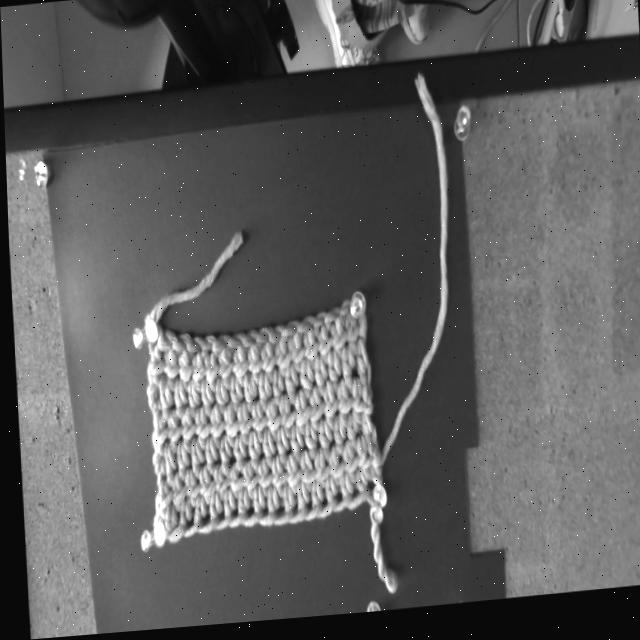ch: (160, 331, 183, 352), (255, 330, 276, 346), (176, 334, 195, 351), (189, 338, 209, 351), (287, 323, 306, 336), (243, 334, 264, 345), (213, 337, 234, 348), (272, 328, 291, 340), (299, 320, 319, 331), (230, 337, 250, 347), (314, 315, 333, 325), (201, 337, 222, 346), (327, 309, 344, 319)
hdc: (162, 500, 187, 543), (192, 494, 217, 535), (252, 489, 274, 531), (178, 498, 201, 538), (342, 474, 363, 516), (237, 490, 259, 530), (268, 488, 290, 528), (327, 478, 349, 518), (223, 491, 244, 531), (297, 485, 318, 525), (211, 490, 231, 531), (283, 486, 303, 527), (275, 398, 292, 445), (289, 394, 306, 438), (265, 458, 282, 502), (352, 440, 368, 486), (336, 348, 351, 396), (246, 405, 263, 447), (219, 403, 233, 454), (194, 465, 211, 507), (228, 344, 243, 391), (319, 385, 334, 432), (323, 452, 339, 495), (214, 350, 229, 394), (261, 402, 276, 446), (177, 409, 191, 456), (184, 442, 200, 483), (315, 482, 332, 520), (233, 404, 248, 447), (191, 409, 206, 452), (150, 415, 165, 458), (305, 391, 319, 437), (200, 353, 215, 395), (163, 411, 177, 456), (179, 470, 195, 509), (187, 352, 201, 396), (158, 444, 172, 488), (160, 351, 175, 392), (294, 364, 309, 405), (284, 427, 299, 468), (322, 354, 336, 397), (338, 444, 352, 487), (283, 457, 297, 500), (270, 340, 285, 380), (171, 442, 186, 482), (238, 462, 253, 502), (331, 385, 348, 420), (224, 377, 240, 414), (256, 345, 270, 387), (280, 366, 294, 408), (313, 424, 327, 466), (296, 455, 310, 497), (326, 322, 341, 361), (352, 343, 364, 391), (174, 351, 188, 392), (154, 376, 169, 414), (238, 375, 252, 415), (252, 459, 266, 499), (166, 474, 180, 514), (157, 506, 173, 541), (205, 407, 218, 450), (225, 466, 240, 503), (341, 319, 355, 358), (312, 328, 329, 360), (170, 379, 183, 420), (271, 431, 284, 472), (210, 379, 224, 417), (310, 454, 324, 492), (209, 469, 225, 502), (244, 350, 258, 387), (283, 335, 299, 367), (145, 347, 158, 386), (196, 380, 209, 419), (254, 375, 267, 414), (154, 481, 167, 520), (310, 359, 322, 401), (347, 381, 360, 419), (258, 433, 271, 471), (299, 426, 312, 464), (200, 440, 213, 477), (184, 382, 196, 421), (299, 333, 313, 366), (244, 434, 255, 476), (341, 418, 353, 456), (215, 439, 226, 480), (329, 421, 340, 461), (356, 419, 367, 459), (268, 373, 279, 410), (229, 440, 240, 477), (357, 390, 368, 420)
